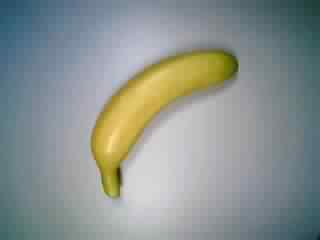banana: (86, 45, 243, 196)
